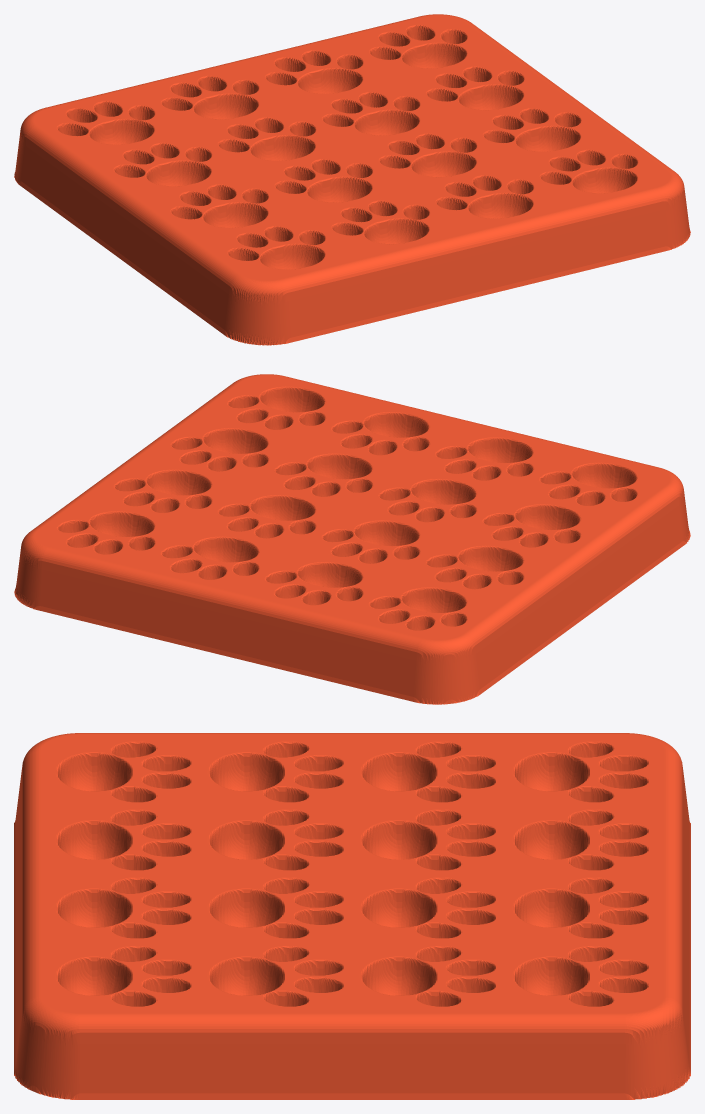
File: mold.glb
The picture shows the model from 3 angles, top to bottom: view 1: azimuth 30°, elevation 25°; view 2: azimuth 150°, elevation 25°; view 3: azimuth 270°, elevation 25°; orthographic projection. The views are drawn at different scales.
Visible parts, largest first — view 1: geometry_0; view 2: geometry_0; view 3: geometry_0.
Part boxes in pixels (box(x1,y1,x2,y2)): geometry_0: box(14, 14, 690, 345); geometry_0: box(14, 374, 690, 704); geometry_0: box(14, 733, 690, 1099).
Size of the model in its own units: 0.0972 by 0.0114 by 0.0924.
